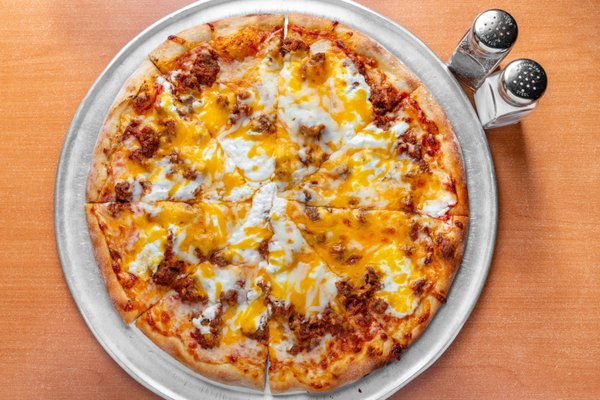curry: (27, 0, 600, 392)
sandwich: (84, 8, 470, 391)
